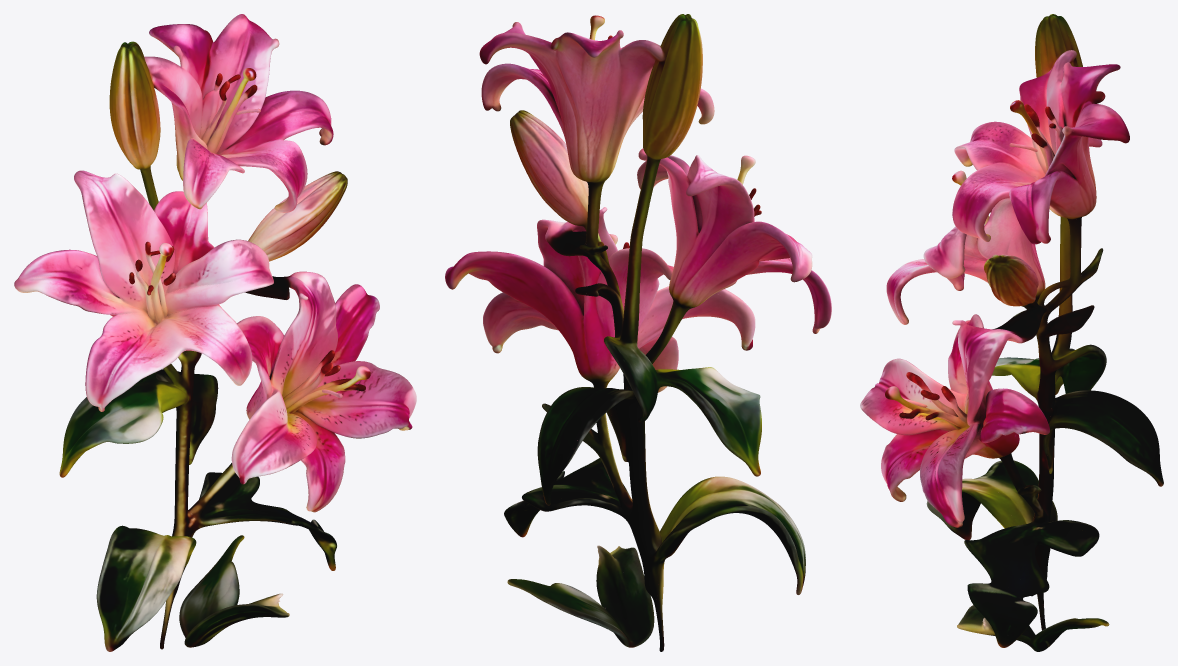
Rendered from base_basic_shaded.glb.
3 views of the same model, side by side, from view 1: azimuth 30°, elevation 25°; view 2: azimuth 150°, elevation 25°; view 3: azimuth 270°, elevation 25° (orthographic). The views are drawn at different scales.
Parts seen in each view (by area): view 1: model; view 2: model; view 3: model.
Part boxes in pixels (x1,y1,x2,y2): model: (14,14,416,651); model: (445,14,831,651); model: (860,14,1163,651).
Bounding box in the file's own units: 1.14 × 1.9 × 0.8627.
1 material, 1 textured.
